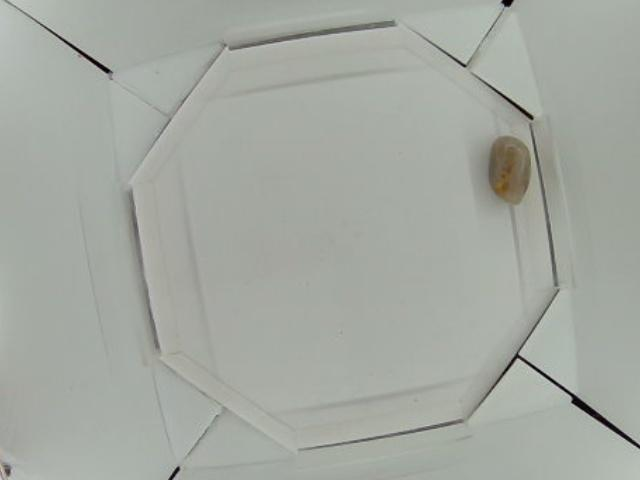Pebble: (488, 136, 529, 206)
